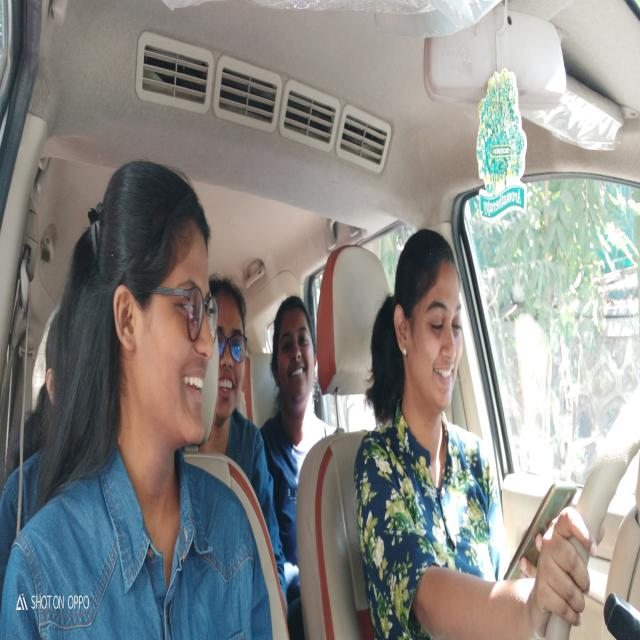mobile: (494, 467, 578, 594)
person: (84, 128, 222, 466), (380, 209, 472, 435), (269, 280, 324, 452), (212, 248, 255, 440)
